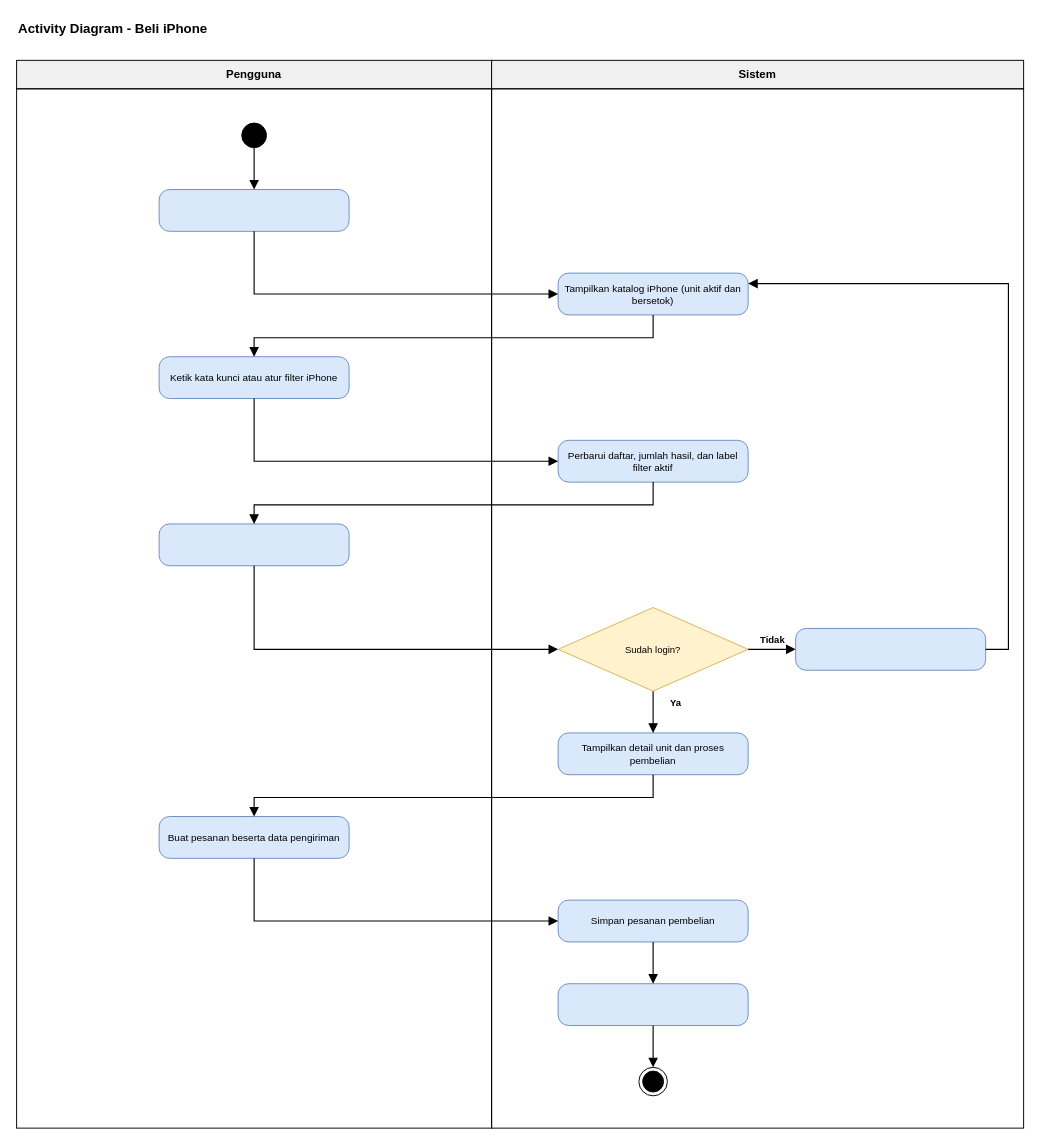
The diagram is 1040 pixels wide and 1145 high, and some of its shapes have lost their labels. The shapes that lost their labels are listed below. From the top down, each one's box as (x1, y1, x2, y2) in pixels, then its label:
(158, 189, 349, 231): Buka menu Beli
(158, 523, 349, 566): Pilih satu unit iPhone
(795, 627, 986, 670): Arahkan ke halaman Login
(557, 983, 748, 1026): Tampilkan status pesanan pada riwayat transaksi
